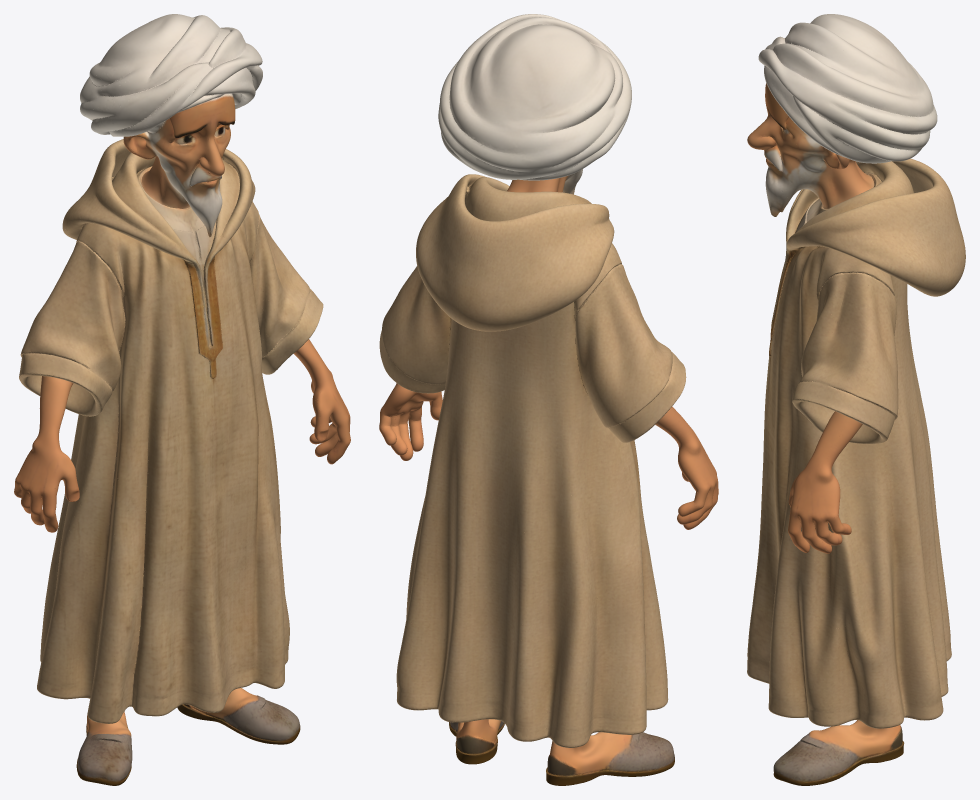
The model's file is hammad__base_basic_pbr.glb.
3 renders of one model, left to right at view 1: azimuth 30°, elevation 25°; view 2: azimuth 150°, elevation 25°; view 3: azimuth 270°, elevation 25°, orthographic.
Visible parts, largest first — view 1: model; view 2: model; view 3: model.
Boxes of the visible parts, <box> form: model: <box>14,14,350,785</box>; model: <box>379,14,718,785</box>; model: <box>747,14,965,785</box>.
Size of the model in its own units: 0.8912 by 1.9 by 0.5257.
1 material, 1 textured.
